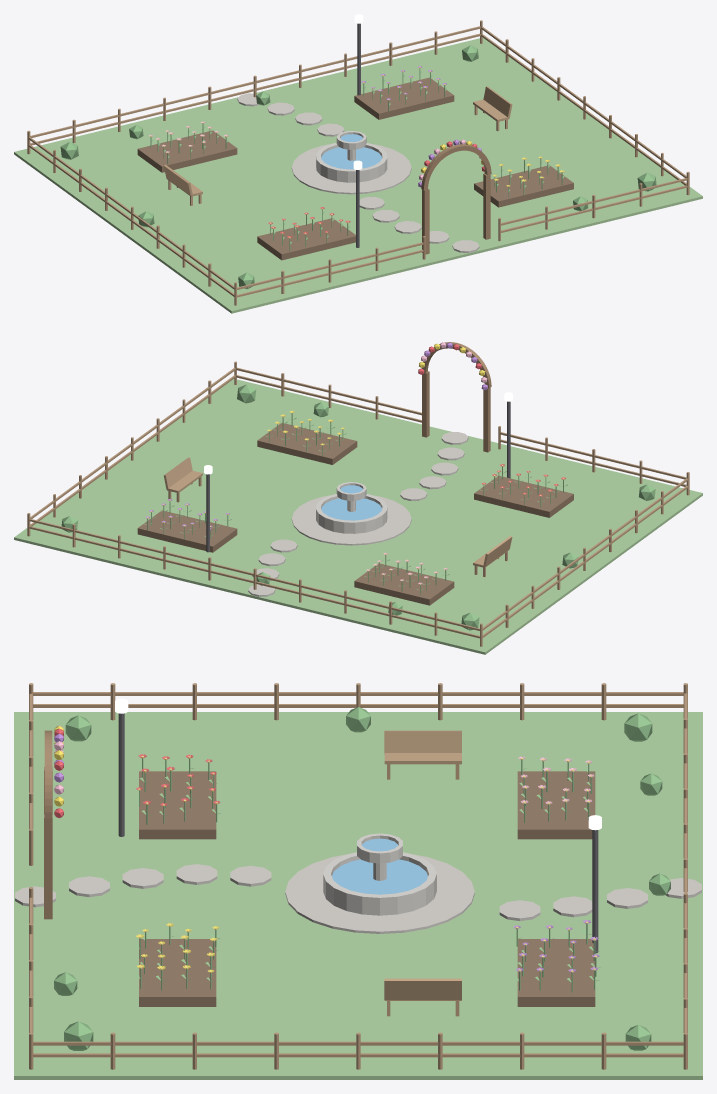
File: taman-bunga-blender-v1.glb
3 views of the same model, one above another, from view 1: azimuth 30°, elevation 25°; view 2: azimuth 150°, elevation 25°; view 3: azimuth 270°, elevation 25° (orthographic). The views are drawn at different scales.
Parts seen in each view (by area): view 1: ground, fence, soil, path, green, fount, arch, bench, water, metal; view 2: ground, fence, soil, path, green, fount, arch, bench, water, metal; view 3: ground, soil, fence, path, green, bench, fount, water, arch, metal.
Part boxes in pixels (box(x1,y1,x2,y2)): ground: box(14, 38, 702, 313); fence: box(27, 20, 689, 305); soil: box(137, 77, 573, 260); path: box(237, 93, 479, 252); green: box(60, 45, 656, 289); fount: box(316, 131, 387, 182); arch: box(421, 144, 491, 254); bench: box(164, 86, 512, 205); water: box(321, 134, 381, 169); metal: box(356, 23, 360, 247); ground: box(14, 379, 702, 654); fence: box(27, 361, 689, 646); soil: box(137, 423, 573, 605); path: box(248, 432, 468, 596); green: box(61, 384, 655, 630); fount: box(316, 482, 387, 533); arch: box(421, 342, 491, 452); bench: box(163, 457, 512, 576); water: box(321, 485, 381, 520); metal: box(206, 401, 510, 552); ground: box(14, 712, 702, 1079); soil: box(139, 771, 595, 1006); fence: box(29, 683, 687, 1069); path: box(15, 854, 701, 933); green: box(54, 707, 670, 1050); bench: box(384, 730, 461, 1016); fount: box(323, 833, 436, 915); water: box(332, 838, 427, 894); arch: box(44, 730, 52, 919); metal: box(118, 713, 598, 953).
Bounding box in the file's own units: 20 × 4.27 × 16.
